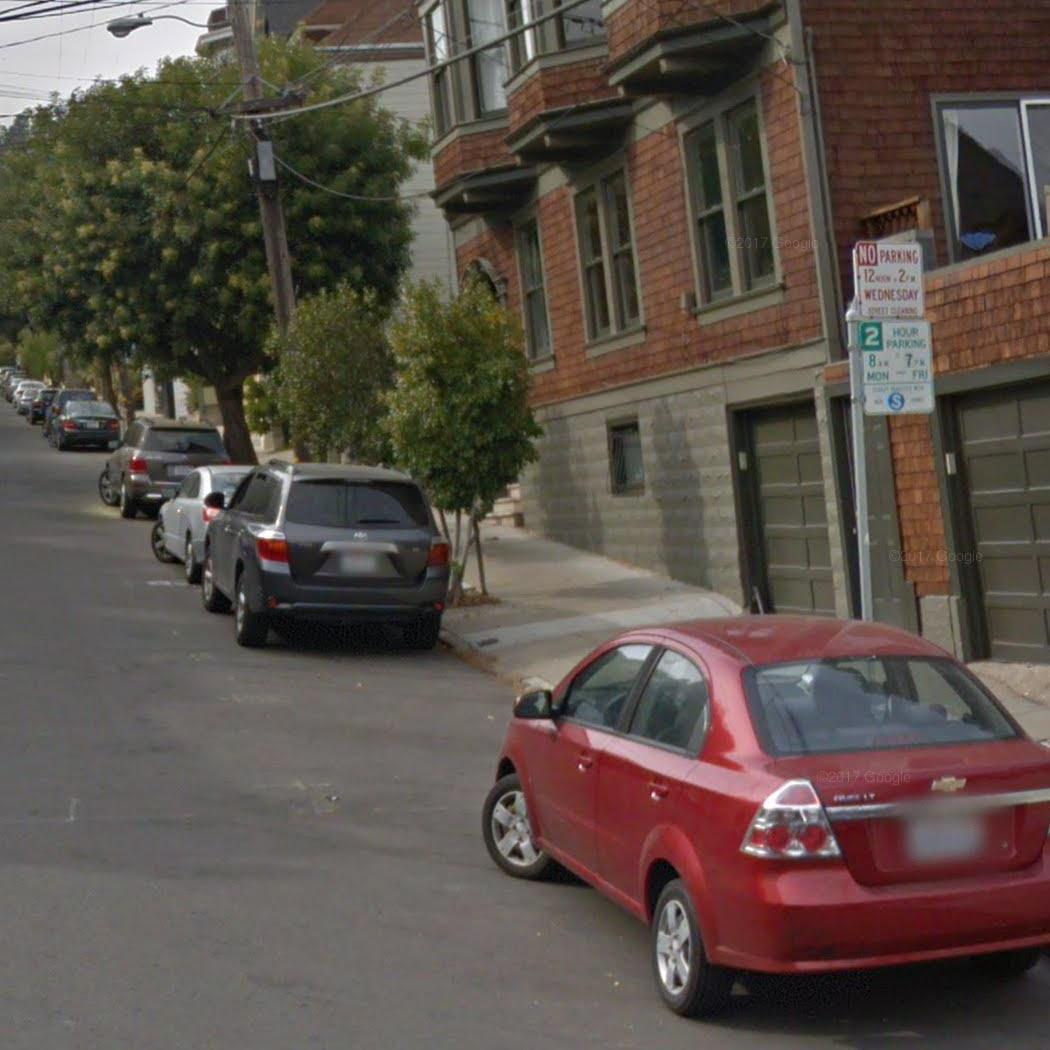2 Hour Parking: (855, 319, 938, 419)
No Parking: (852, 238, 926, 319)
